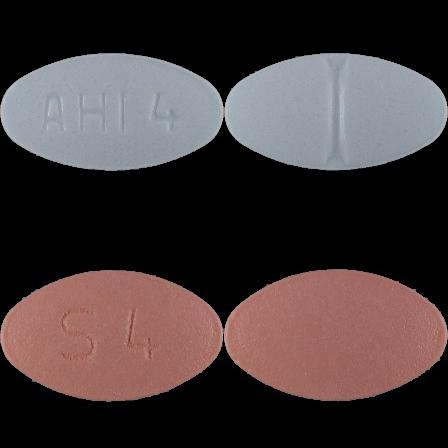70786-0003: (0, 0, 224, 224)
